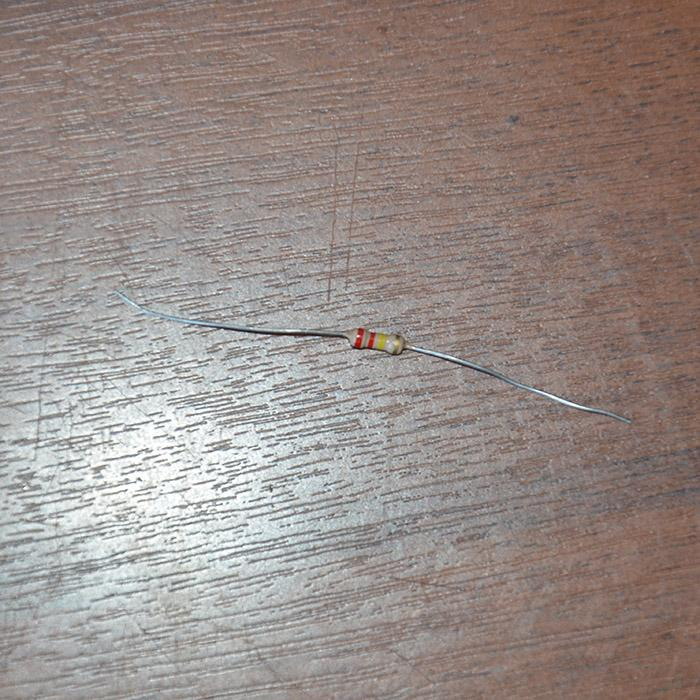resistor: (348, 327, 405, 355)
